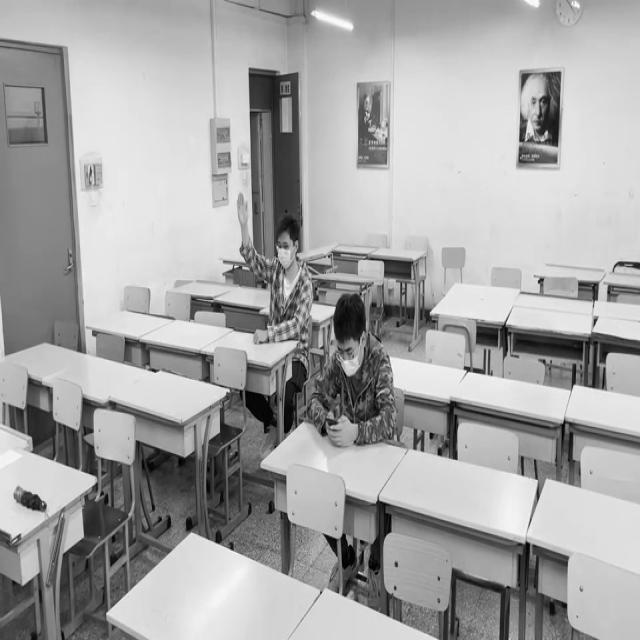phone: (314, 296, 396, 443)
study: (235, 193, 312, 342)
